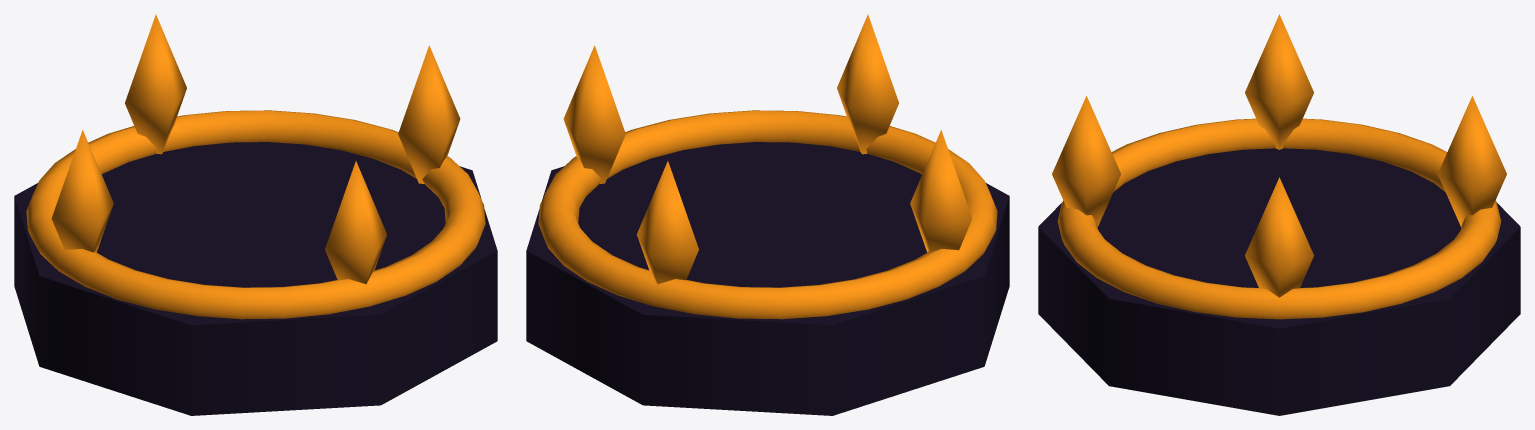
The model's file is false_king_seal_base.obj.
The picture shows the model from 3 angles, left to right: view 1: azimuth 30°, elevation 25°; view 2: azimuth 150°, elevation 25°; view 3: azimuth 270°, elevation 25°; orthographic projection. The views are drawn at different scales.
Visible parts, largest first — view 1: false_king_seal_base; view 2: false_king_seal_base; view 3: false_king_seal_base.
Part boxes in pixels (left/top/right/bottom): false_king_seal_base: left=14, top=14, right=497, bottom=415; false_king_seal_base: left=526, top=14, right=1009, bottom=415; false_king_seal_base: left=1038, top=14, right=1520, bottom=415.
Size of the model in its own units: 2.5 by 1.25 by 2.5.
